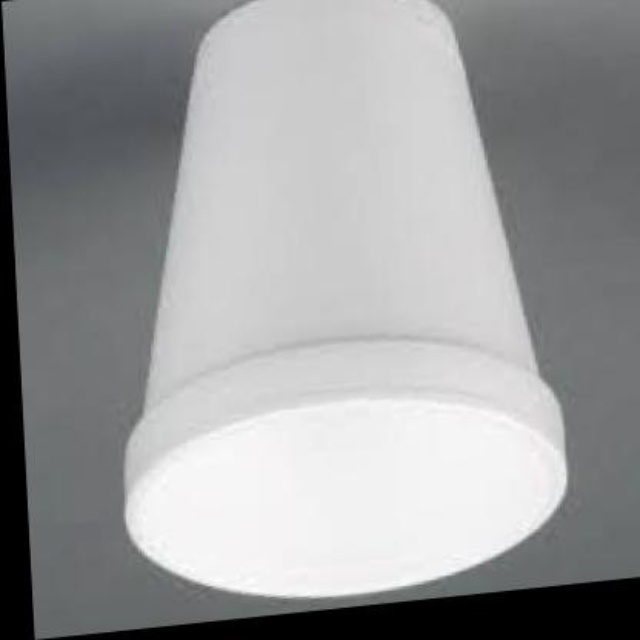trash: (125, 0, 565, 595)
